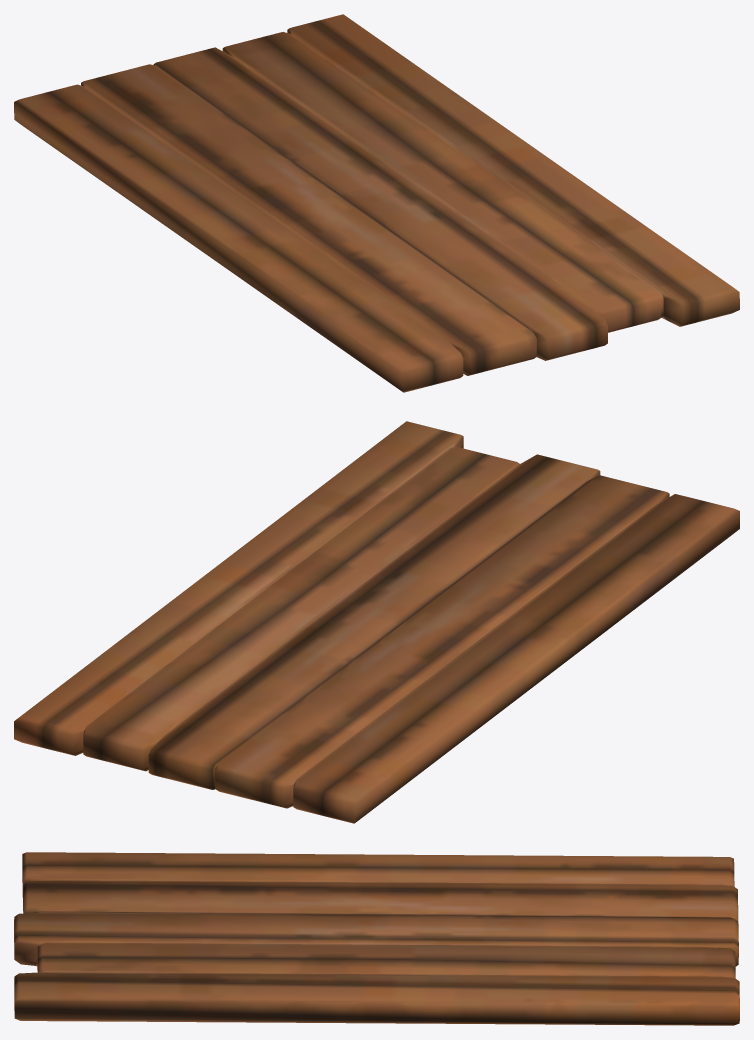
File: ShieldWoodTower.fbx
3 views of the same model, one above another, from view 1: azimuth 30°, elevation 25°; view 2: azimuth 150°, elevation 25°; view 3: azimuth 270°, elevation 25° (orthographic). The views are drawn at different scales.
Visible parts, largest first — view 1: attach; view 2: attach; view 3: attach.
Boxes of the visible parts, left/top/right/bottom form: attach: left=14, top=14, right=739, bottom=392; attach: left=14, top=421, right=739, bottom=823; attach: left=14, top=852, right=739, bottom=1025.
Bounding box in the file's own units: 0.7494 × 0.1314 × 1.5.
Materials: 1 (1 with a texture image).
